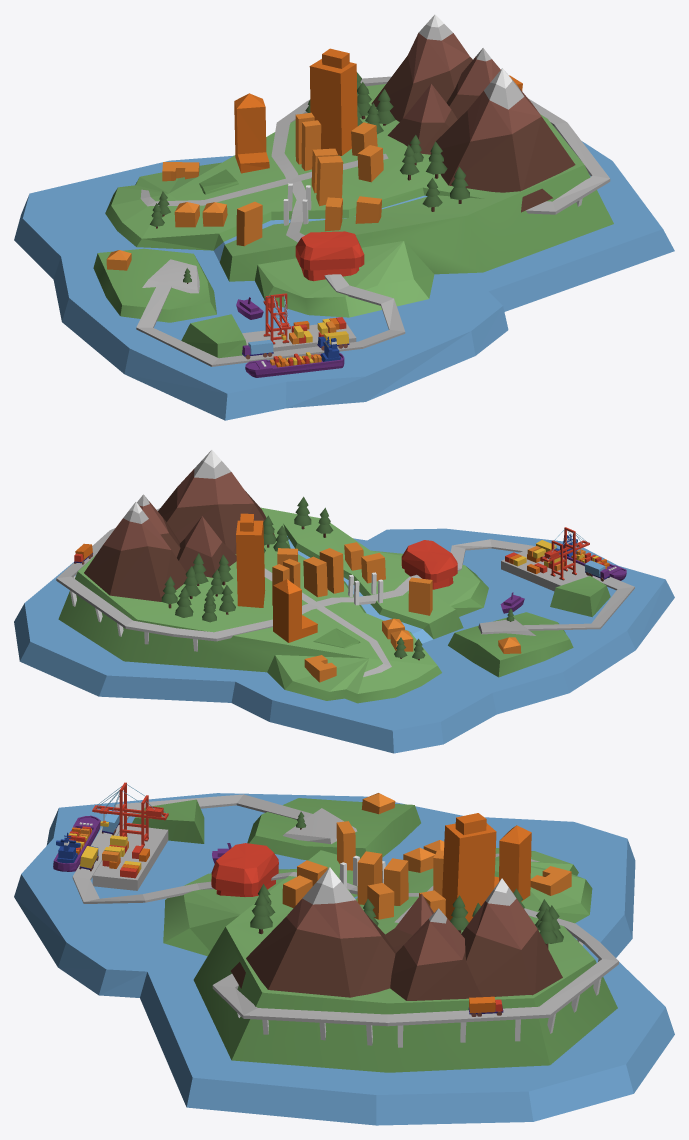
Rendered from island.gltf.
3 views of the same model, one above another, from view 1: azimuth 30°, elevation 25°; view 2: azimuth 150°, elevation 25°; view 3: azimuth 270°, elevation 25° (orthographic). The views are drawn at different scales.
Parts seen in each view (by area): view 1: water, land, mountains, buildings, road, tree, port, tanker, Box004; view 2: water, land, mountains, buildings, road, tree, port, pillars, tanker, Box004, Box005; view 3: water, land, mountains, buildings, road, port, tree, tanker, pillars, Box004, truck.
Boxes of the visible parts, x1,y1,x2,y2 form: water: (14,141,674,420); land: (93,84,613,358); mountains: (371,14,575,192); buildings: (106,48,383,281); road: (136,76,610,366); tree: (150,72,469,283); port: (242,293,356,351); tanker: (245,336,344,377); Box004: (142,259,199,293); water: (14,528,674,753); land: (58,507,610,703); mountains: (84,450,274,601); buildings: (236,513,521,682); road: (56,508,634,676); tree: (161,496,514,660); port: (501,527,598,591); pillars: (70,572,383,651); tanker: (560,534,626,580); Box004: (478,619,535,635); Box005: (313,628,360,648); water: (14,793,674,1125); land: (132,798,617,1072); mountains: (246,867,562,1000); buildings: (211,793,571,922); road: (72,794,618,1026); port: (92,782,168,890); tree: (250,811,563,948); tanker: (53,815,100,871); pillars: (237,855,601,1047); Box004: (283,808,357,843); truck: (468,996,503,1016).
Size of the model in its own units: 1.77 by 0.4812 by 1.59.
Materials: 1 (1 with a texture image).
